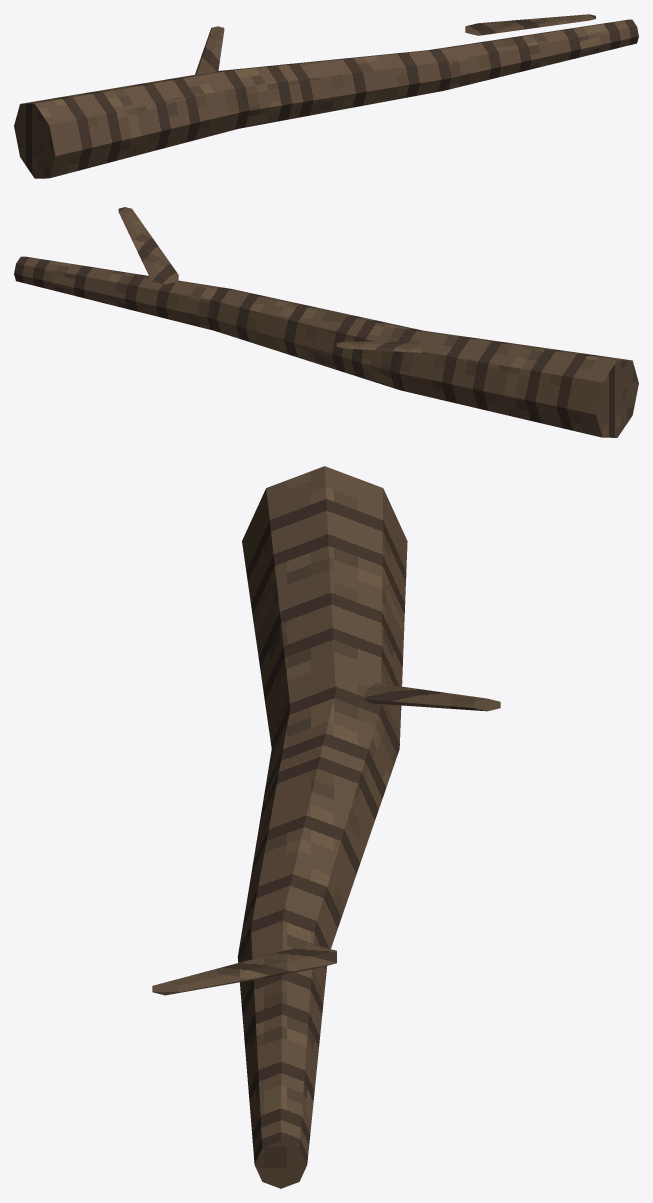
The model's file is fallen_branch.glb.
3 views of the same model, one above another, from view 1: azimuth 30°, elevation 25°; view 2: azimuth 150°, elevation 25°; view 3: azimuth 270°, elevation 25° (orthographic). The views are drawn at different scales.
Visible parts, largest first — view 1: fallen_branch, fallen_branch_stub_+0.5, fallen_branch_stub_-0.4; view 2: fallen_branch, fallen_branch_stub_+0.5, fallen_branch_stub_-0.4; view 3: fallen_branch, fallen_branch_stub_+0.5, fallen_branch_stub_-0.4.
Boxes of the visible parts, x1,y1,x2,y2 form: fallen_branch: (14, 19, 638, 178); fallen_branch_stub_+0.5: (465, 14, 595, 35); fallen_branch_stub_-0.4: (195, 26, 224, 74); fallen_branch: (14, 256, 638, 437); fallen_branch_stub_+0.5: (118, 207, 178, 284); fallen_branch_stub_-0.4: (336, 341, 422, 352); fallen_branch: (237, 466, 407, 1188); fallen_branch_stub_+0.5: (152, 944, 336, 995); fallen_branch_stub_-0.4: (364, 683, 500, 711).
Size of the model in its own units: 1.8 by 0.22 by 0.4629.
1 material, 1 textured.
